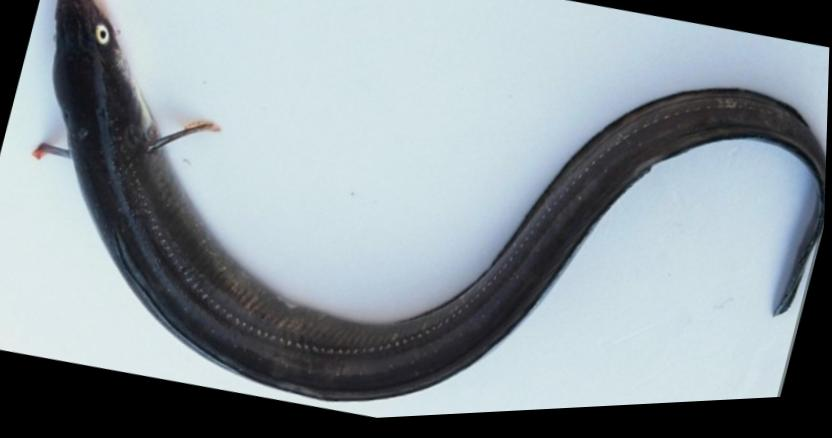fish: (52, 0, 827, 405)
